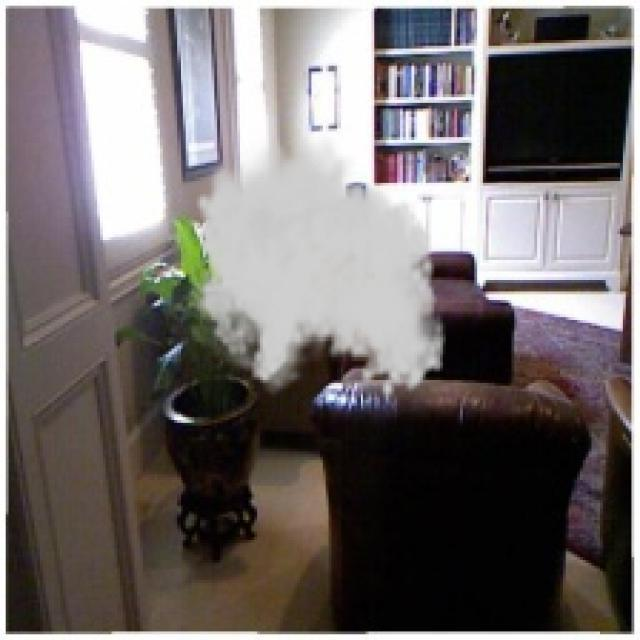Smoke: (180, 128, 449, 400)
